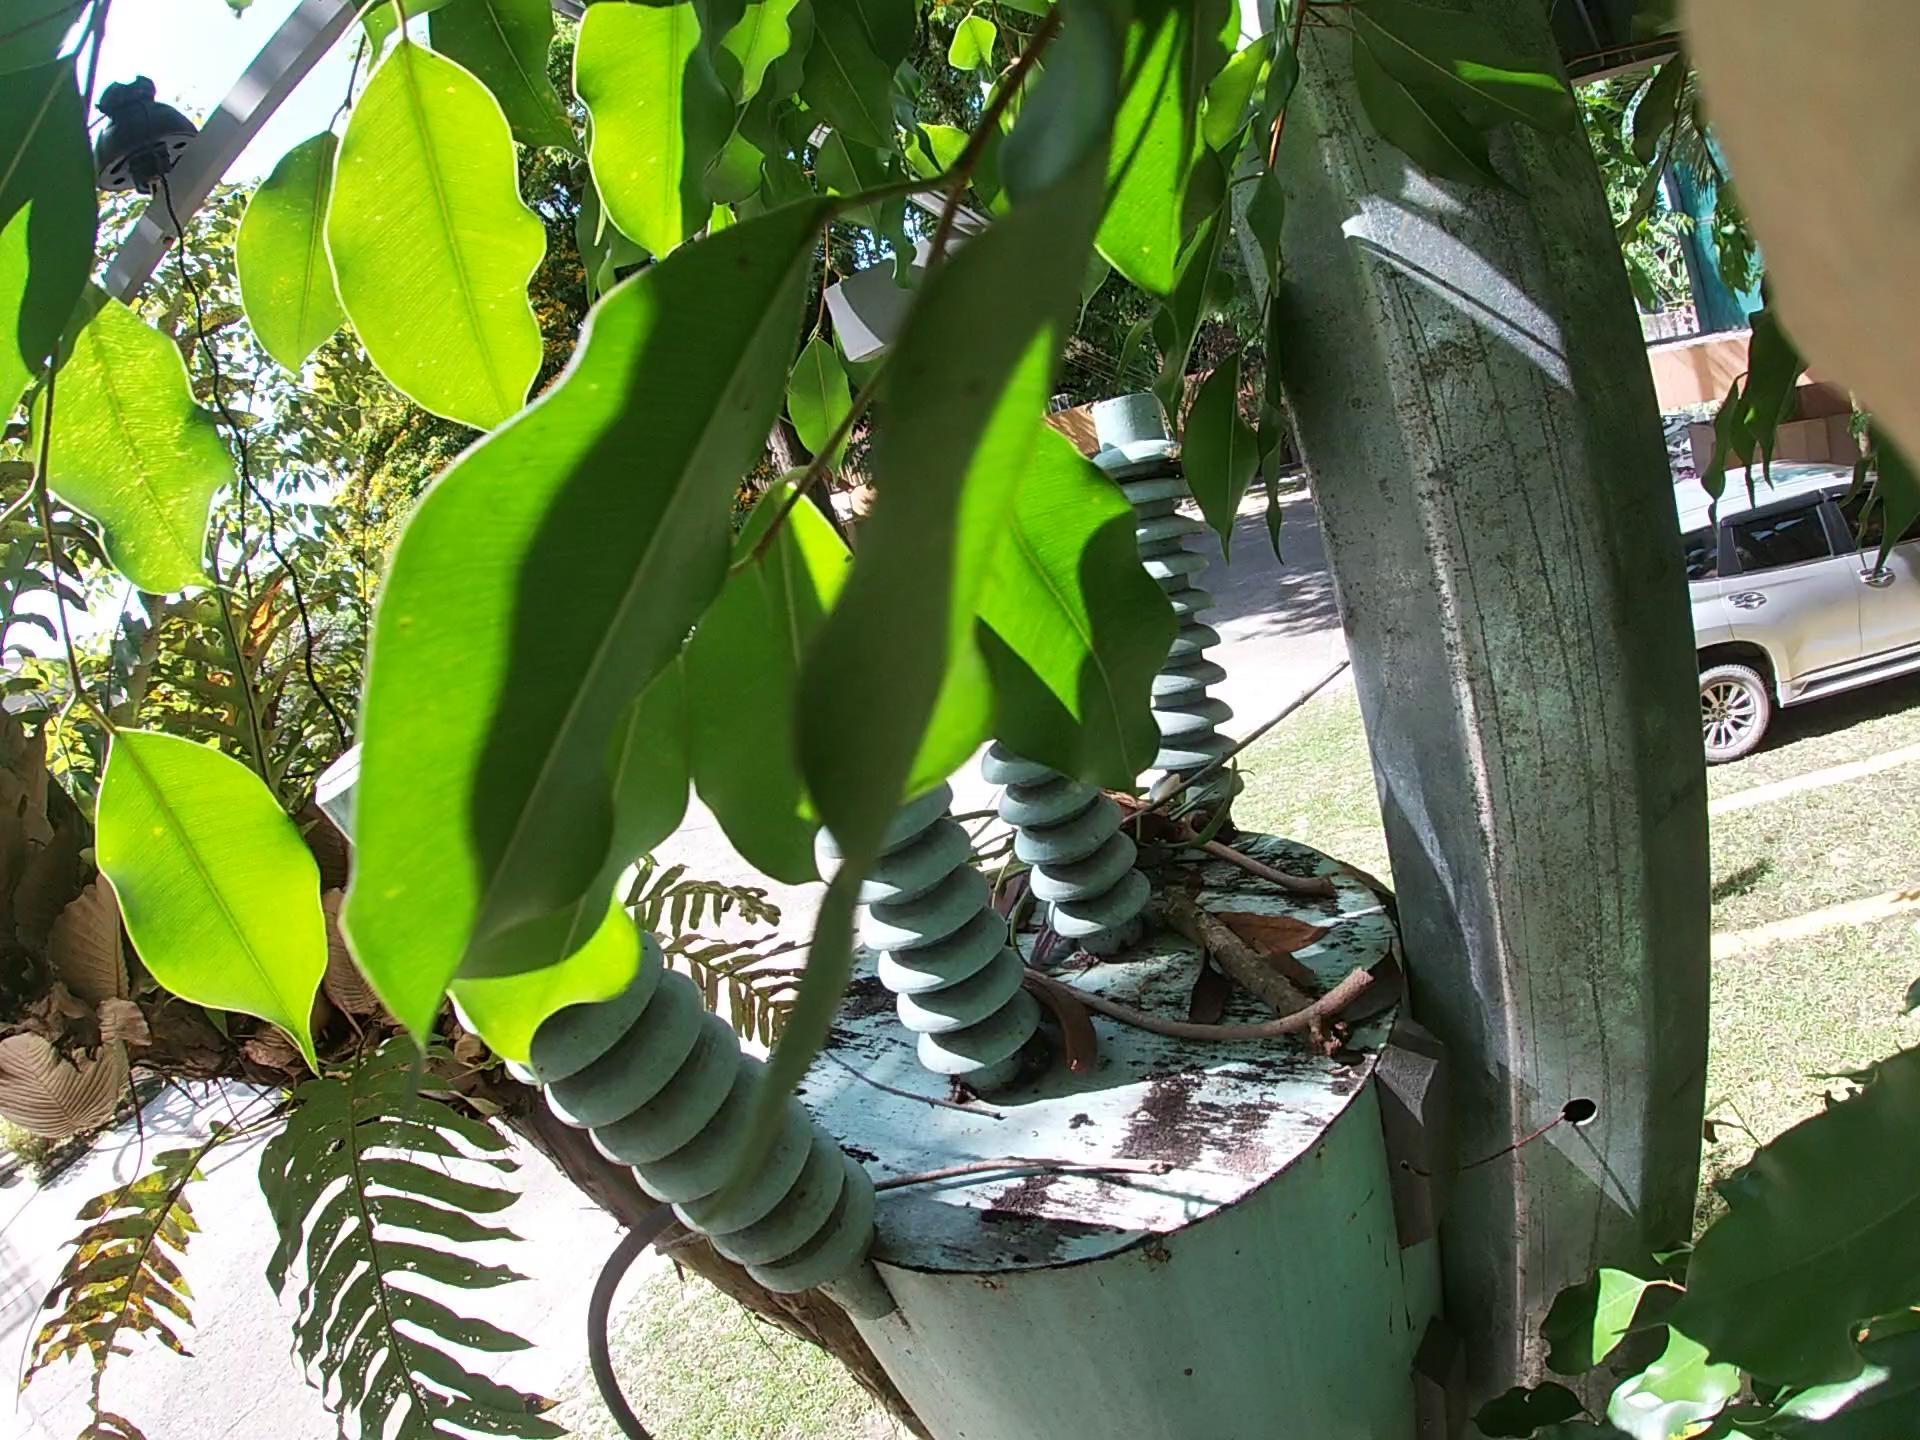leaf: (1205, 880, 1317, 1016)
tree branch: (1157, 836, 1485, 1122), (1019, 945, 1404, 1085), (668, 1134, 1262, 1221), (1169, 764, 1314, 915)
